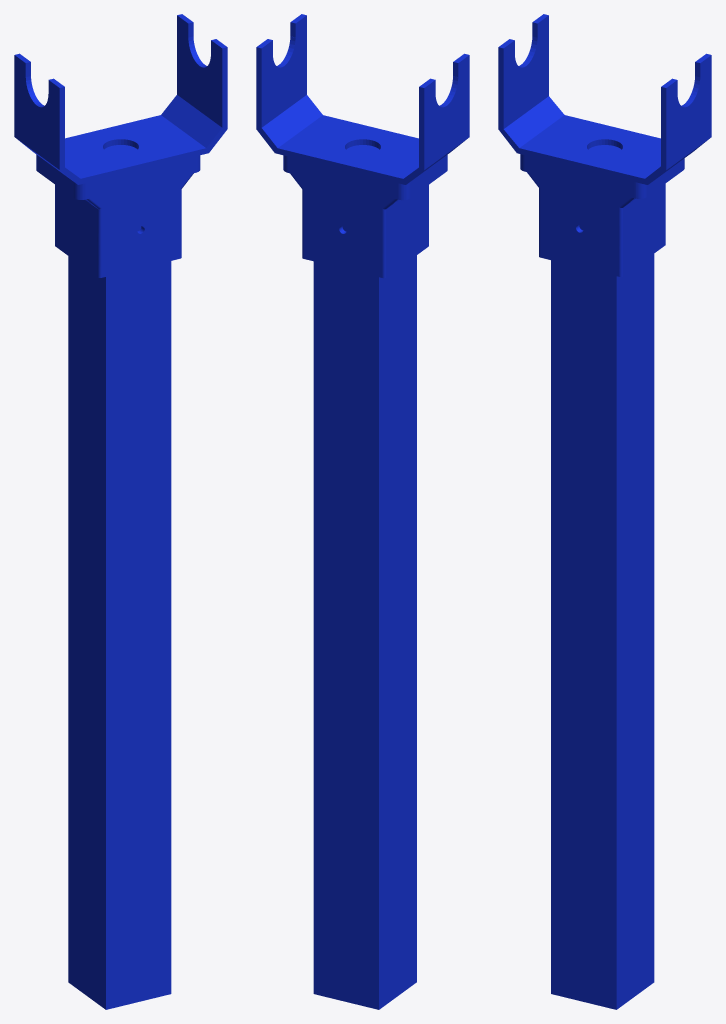
The model's file is hand_part.dae.
The picture shows the model from 3 angles, left to right: view 1: azimuth 30°, elevation 25°; view 2: azimuth 150°, elevation 25°; view 3: azimuth 330°, elevation 25°; orthographic projection.
Visible parts, largest first — view 1: Hand_part; view 2: Hand_part; view 3: Hand_part.
Boxes of the visible parts, x1,y1,x2,y2 form: Hand_part: [14, 14, 227, 1009]; Hand_part: [256, 14, 469, 1009]; Hand_part: [498, 14, 711, 1009].
Size of the model in its own units: 0.0641 by 0.03 by 0.3421.
